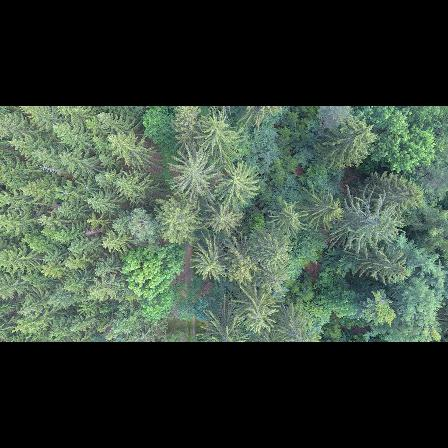Sick: (55, 183, 78, 203)
